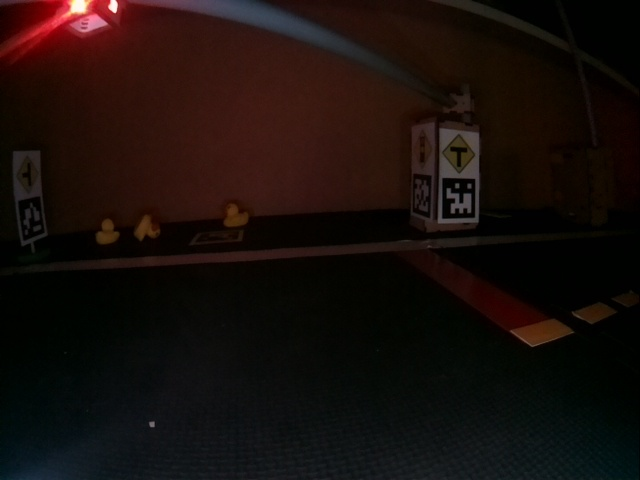Duckie: (133, 215, 161, 241), (224, 203, 249, 227), (96, 218, 117, 245)
Intersection sign: (443, 133, 475, 173), (16, 155, 39, 193)
QR code: (440, 177, 476, 217), (19, 203, 45, 241), (190, 229, 244, 246), (412, 174, 432, 215)
Signal sign: (412, 127, 434, 168)
Traffic light: (59, 2, 122, 38)
